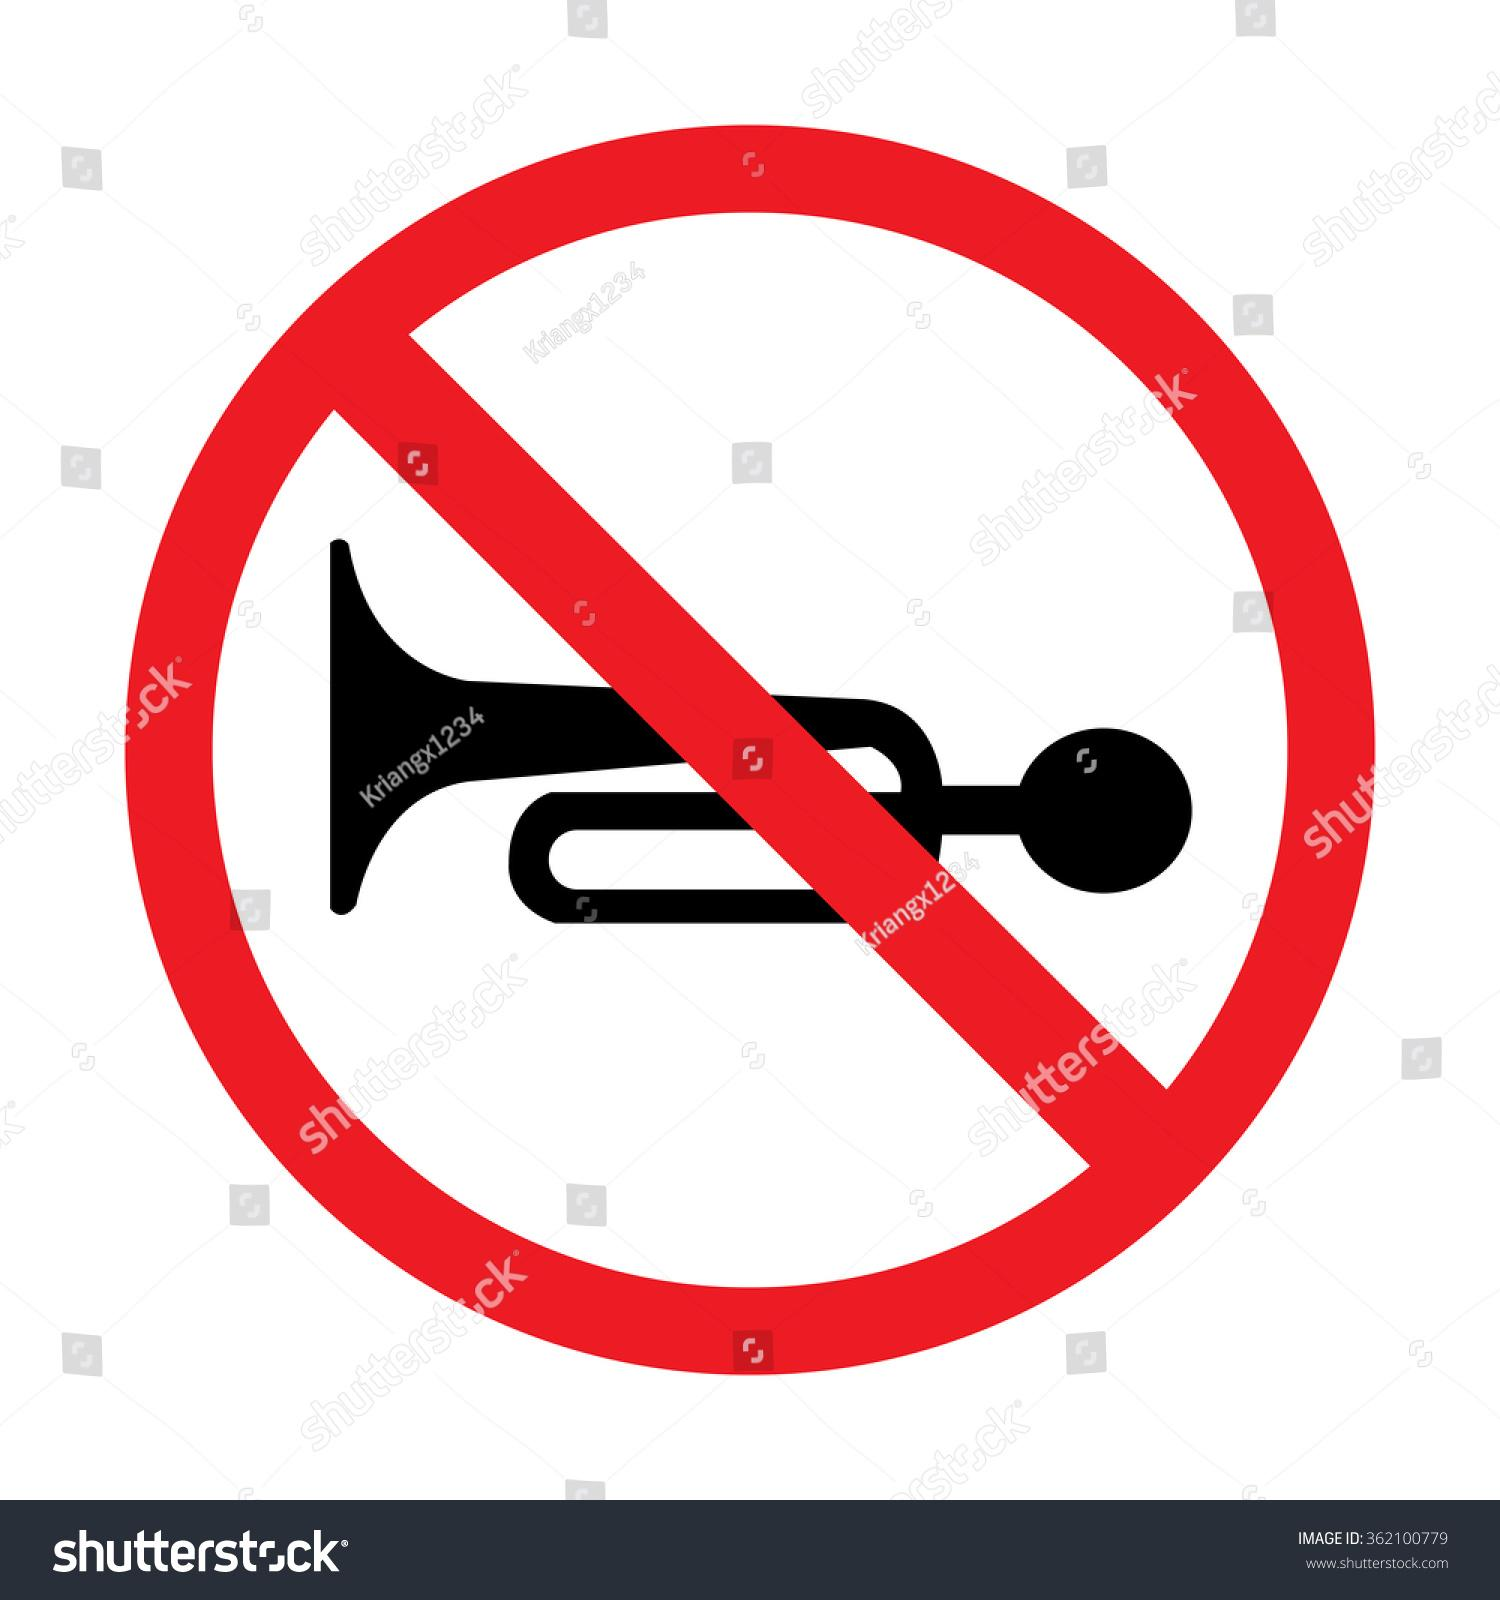Horn Prohibited: (107, 164, 1413, 1338)
